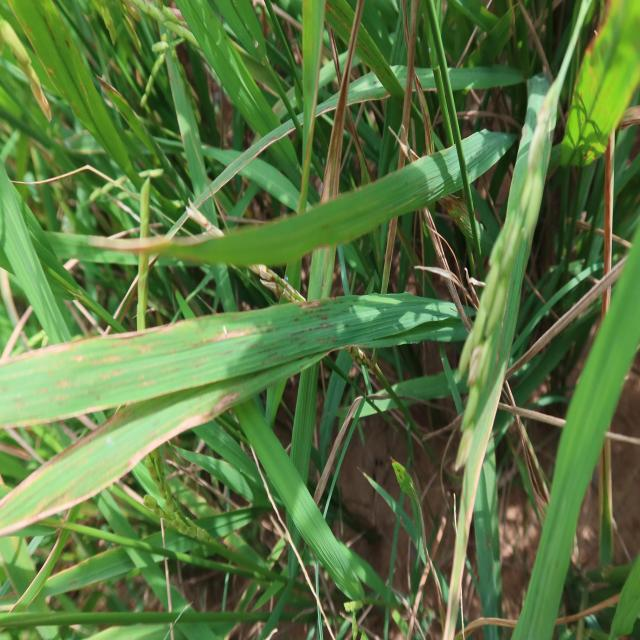Dom soc vi khuan: (124, 387, 242, 473), (24, 412, 122, 487), (194, 326, 254, 346), (292, 319, 333, 337), (299, 301, 328, 311)
